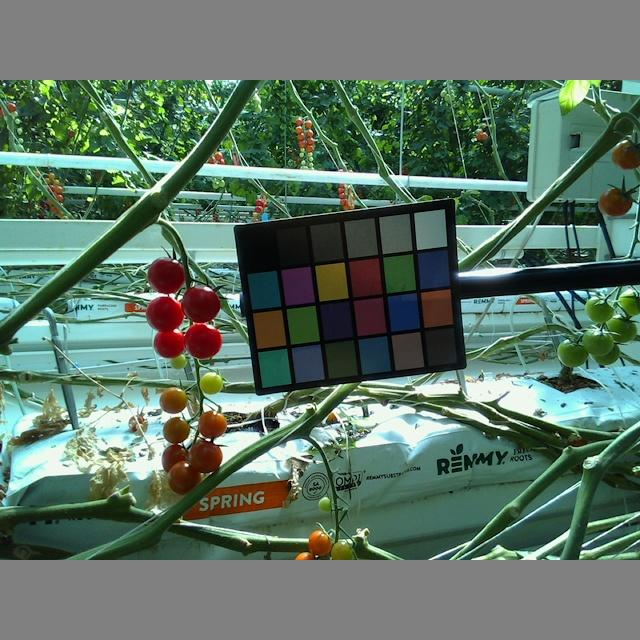green: (583, 326, 614, 355), (556, 341, 590, 366), (605, 316, 635, 344), (586, 294, 612, 323), (198, 374, 226, 395), (619, 295, 640, 318), (316, 494, 336, 510)
pink: (144, 294, 183, 334), (182, 322, 222, 358), (166, 456, 201, 493), (189, 440, 222, 474), (195, 407, 228, 440), (152, 327, 186, 358), (599, 189, 634, 217), (158, 383, 189, 414), (613, 137, 640, 168), (161, 416, 191, 443), (308, 529, 335, 558), (329, 536, 359, 560), (295, 552, 318, 560)
red: (178, 285, 221, 326), (146, 257, 188, 294)
